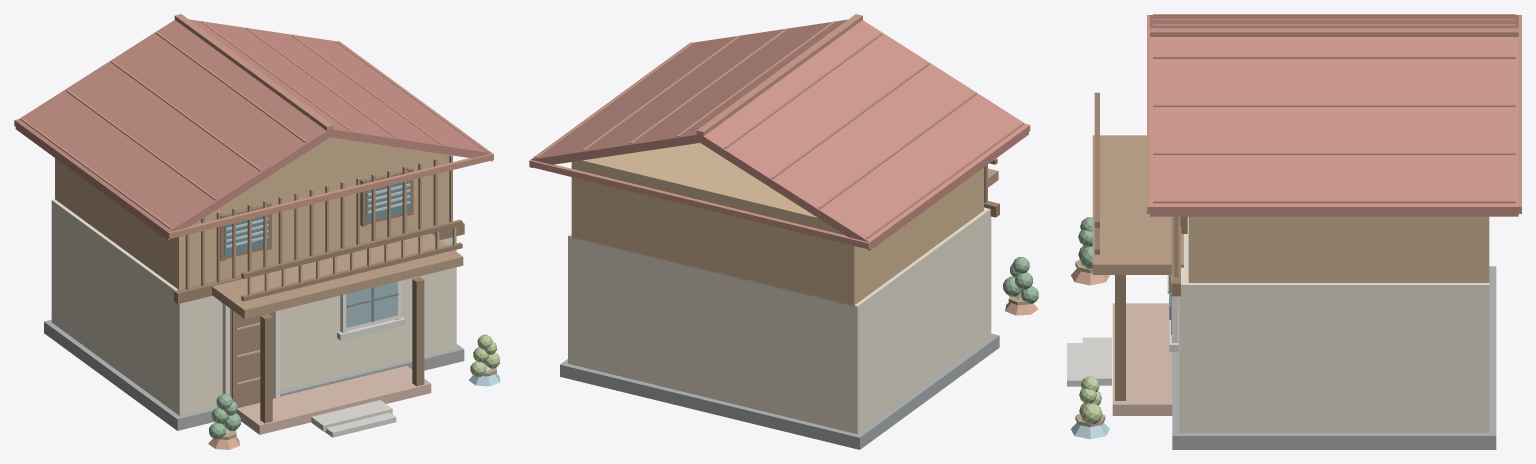
File: 09_Mixed_Concrete_Wood_Home.fbx
3 views of the same model, side by side, from view 1: azimuth 30°, elevation 25°; view 2: azimuth 150°, elevation 25°; view 3: azimuth 270°, elevation 25° (orthographic). The views are drawn at different scales.
Parts seen in each view (by area): view 1: H09_024_TerracottaRoof_LeftSlope, H09_002_ConcreteLowerWalls, H09_003_WoodUpperWalls, H09_025_TerracottaRoof_RightSlope, H09_072_TimberVerandaFloor, H09_023_TraditionalGable, H09_088_FrontCanopy_Slab, H09_001_Foundation, H09_026_TerracottaRoof_FrontFascia, H09_038_GroundFloorDoor_DoorLeaf, H09_028_TerracottaRoof_RidgeCap, H09_073_VerandaTopRail (+16 smaller); view 2: H09_002_ConcreteLowerWalls, H09_024_TerracottaRoof_LeftSlope, H09_003_WoodUpperWalls, H09_025_TerracottaRoof_RightSlope, H09_001_Foundation, H09_027_TerracottaRoof_BackFascia, H09_028_TerracottaRoof_RidgeCap, H09_029_TerracottaRoof_Rib01, H09_031_TerracottaRoof_Rib03, H09_030_TerracottaRoof_Rib02, H09_032_TerracottaRoof_Rib04; view 3: H09_025_TerracottaRoof_RightSlope, H09_002_ConcreteLowerWalls, H09_003_WoodUpperWalls, H09_072_TimberVerandaFloor, H09_001_Foundation, H09_088_FrontCanopy_Slab, H09_024_TerracottaRoof_LeftSlope, H09_028_TerracottaRoof_RidgeCap, H09_036_TerracottaRoof_Rib08, H09_098_FrontCanopy_Post2, H09_089_FrontCanopy_Step1, H09_033_TerracottaRoof_Rib05 (+11 smaller).
Boxes of the visible parts, x1,y1,x2,y2 form: H09_024_TerracottaRoof_LeftSlope: (15, 20, 330, 240); H09_002_ConcreteLowerWalls: (51, 199, 456, 415); H09_003_WoodUpperWalls: (55, 154, 449, 289); H09_025_TerracottaRoof_RightSlope: (189, 19, 492, 161); H09_072_TimberVerandaFloor: (207, 233, 463, 318); H09_023_TraditionalGable: (215, 137, 444, 210); H09_088_FrontCanopy_Slab: (236, 366, 431, 434); H09_001_Foundation: (44, 319, 464, 430); H09_026_TerracottaRoof_FrontFascia: (167, 153, 493, 239); H09_038_GroundFloorDoor_DoorLeaf: (232, 310, 272, 407); H09_028_TerracottaRoof_RidgeCap: (174, 14, 333, 130); H09_073_VerandaTopRail: (241, 219, 462, 278); H09_002_ConcreteLowerWalls: (568, 207, 991, 434); H09_024_TerracottaRoof_LeftSlope: (700, 20, 1028, 250); H09_003_WoodUpperWalls: (571, 143, 983, 306); H09_025_TerracottaRoof_RightSlope: (530, 19, 847, 167); H09_001_Foundation: (560, 333, 999, 449); H09_027_TerracottaRoof_BackFascia: (529, 159, 870, 249); H09_028_TerracottaRoof_RidgeCap: (696, 14, 862, 136); H09_029_TerracottaRoof_Rib01: (865, 123, 1023, 238); H09_031_TerracottaRoof_Rib03: (771, 63, 929, 178); H09_030_TerracottaRoof_Rib02: (818, 93, 976, 208); H09_032_TerracottaRoof_Rib04: (724, 33, 882, 148); H09_025_TerracottaRoof_RightSlope: (1150, 37, 1518, 216); H09_002_ConcreteLowerWalls: (1179, 216, 1489, 432); H09_003_WoodUpperWalls: (1188, 216, 1489, 282); H09_072_TimberVerandaFloor: (1092, 135, 1183, 274); H09_001_Foundation: (1172, 266, 1496, 449); H09_088_FrontCanopy_Slab: (1112, 303, 1172, 415); H09_024_TerracottaRoof_LeftSlope: (1150, 15, 1518, 28); H09_028_TerracottaRoof_RidgeCap: (1150, 28, 1518, 36); H09_036_TerracottaRoof_Rib08: (1153, 200, 1515, 203); H09_098_FrontCanopy_Post2: (1115, 275, 1125, 400); H09_089_FrontCanopy_Step1: (1082, 337, 1111, 385); H09_033_TerracottaRoof_Rib05: (1153, 56, 1515, 58).
Size of the model in its own units: 586 by 481 by 587.
